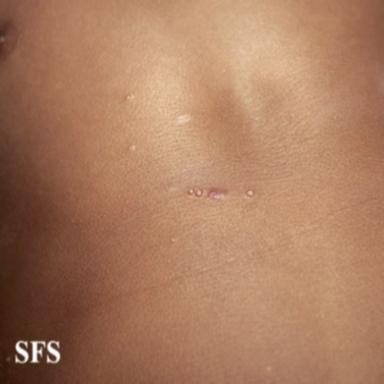Molluscum-Contagiosum: (209, 190, 226, 201), (246, 189, 254, 198), (195, 189, 203, 197), (126, 94, 134, 101), (129, 145, 136, 152), (188, 189, 193, 195), (171, 238, 175, 242)
